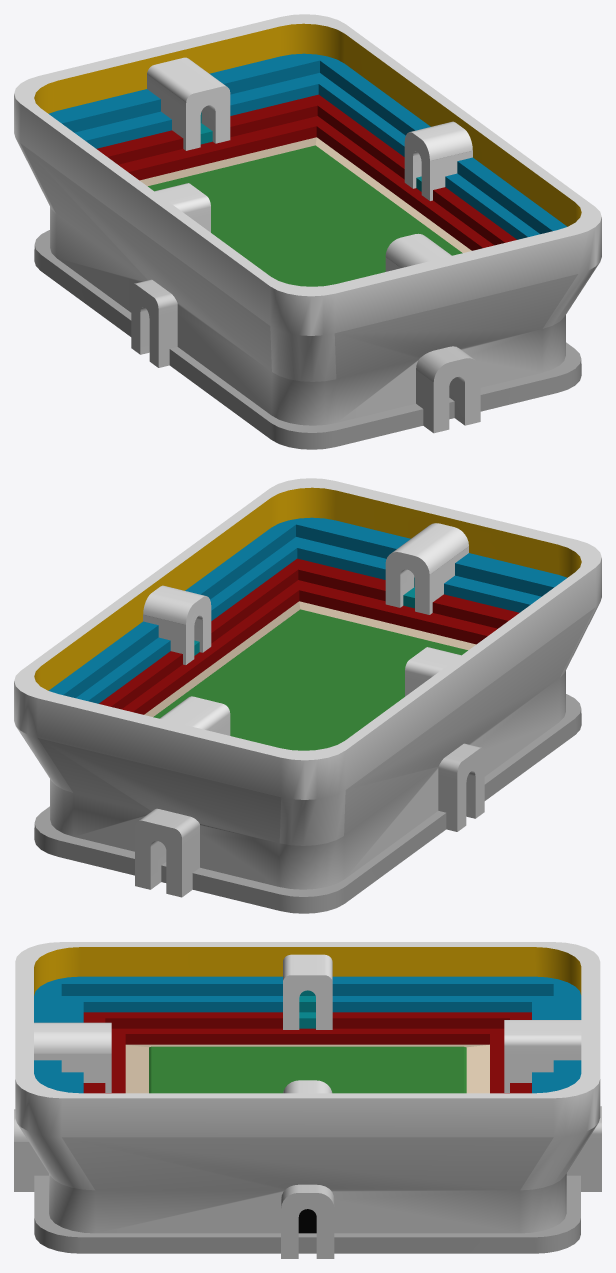
Rendered from stadium_lp.fbx.
3 renders of one model, top to bottom at view 1: azimuth 30°, elevation 25°; view 2: azimuth 150°, elevation 25°; view 3: azimuth 270°, elevation 25°, orthographic.
Visible parts, largest first — view 1: stadium1_lp; view 2: stadium1_lp; view 3: stadium1_lp.
Boxes of the visible parts, x1,y1,x2,y2 form: stadium1_lp: (14,14,601,449); stadium1_lp: (14,478,601,913); stadium1_lp: (14,942,601,1258).
Size of the model in its own units: 11.35 by 5.43 by 18.03.
